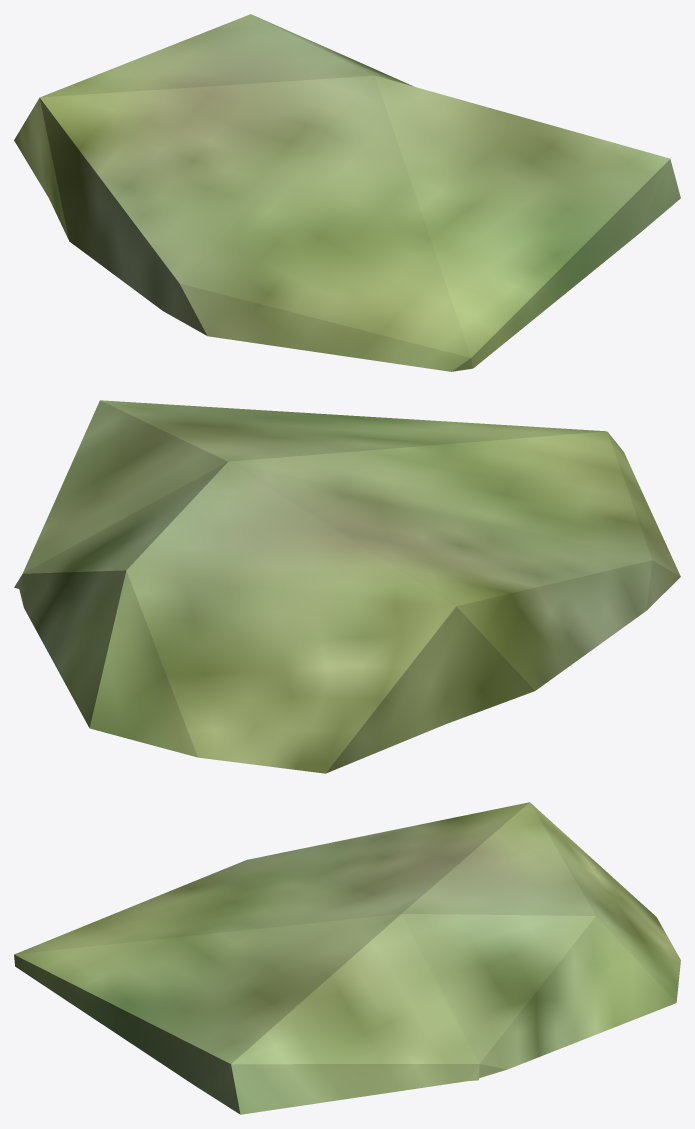
3 views of the same model, one above another, from view 1: azimuth 30°, elevation 25°; view 2: azimuth 150°, elevation 25°; view 3: azimuth 270°, elevation 25° (orthographic). The views are drawn at different scales.
Bounding box in the file's own units: 1.79 × 0.3794 × 2.23.
Materials: 1 (1 with a texture image).
